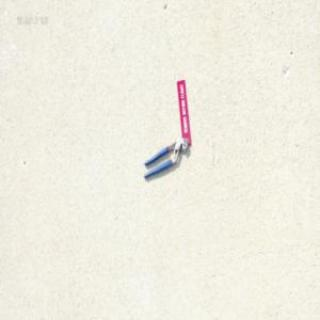LuggageTagtrack_idkeyframe: (175, 76, 191, 144)
Pliertrack_idkeyframe: (142, 137, 187, 178)
